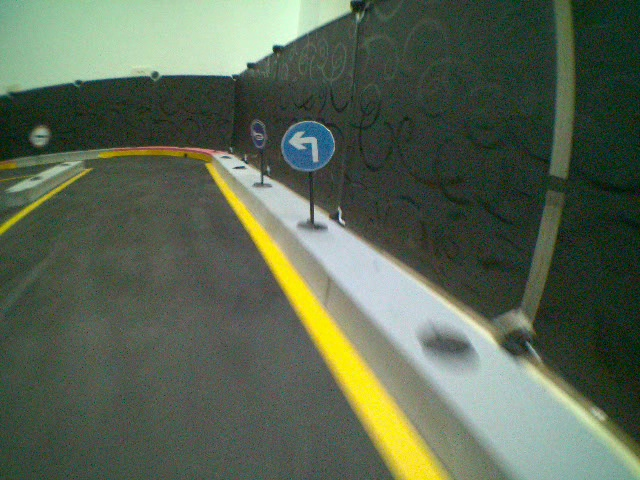Check: (26, 125, 51, 148)
horn: (249, 118, 268, 150)
turn: (284, 120, 335, 169)
